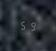five: (19, 19, 26, 30)
nine: (27, 19, 34, 31)
